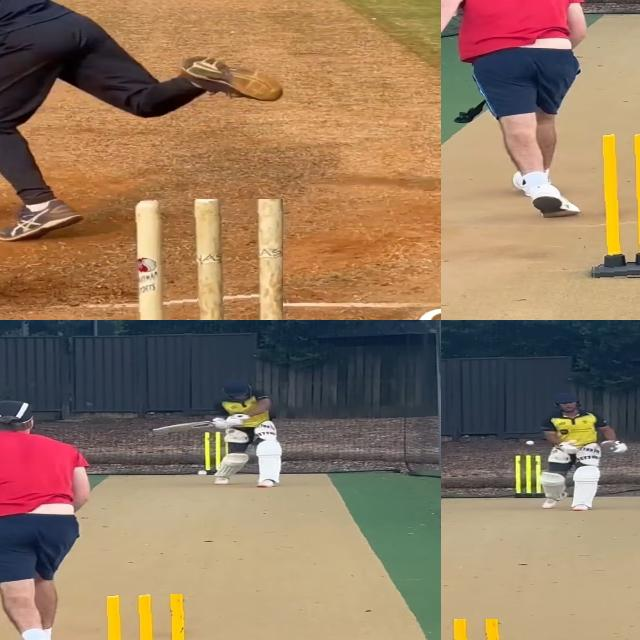Cricket ball: (196, 469, 208, 476), (524, 440, 536, 446)
Stumps: (132, 199, 283, 320), (590, 134, 640, 279), (95, 593, 203, 640), (200, 429, 232, 475), (514, 454, 542, 498)
